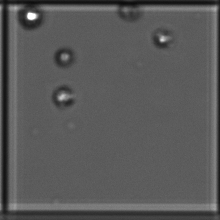Dead Cell: (117, 1, 143, 22)
Living Cell: (16, 6, 45, 30), (52, 85, 76, 108), (152, 28, 176, 48), (54, 47, 75, 67)
